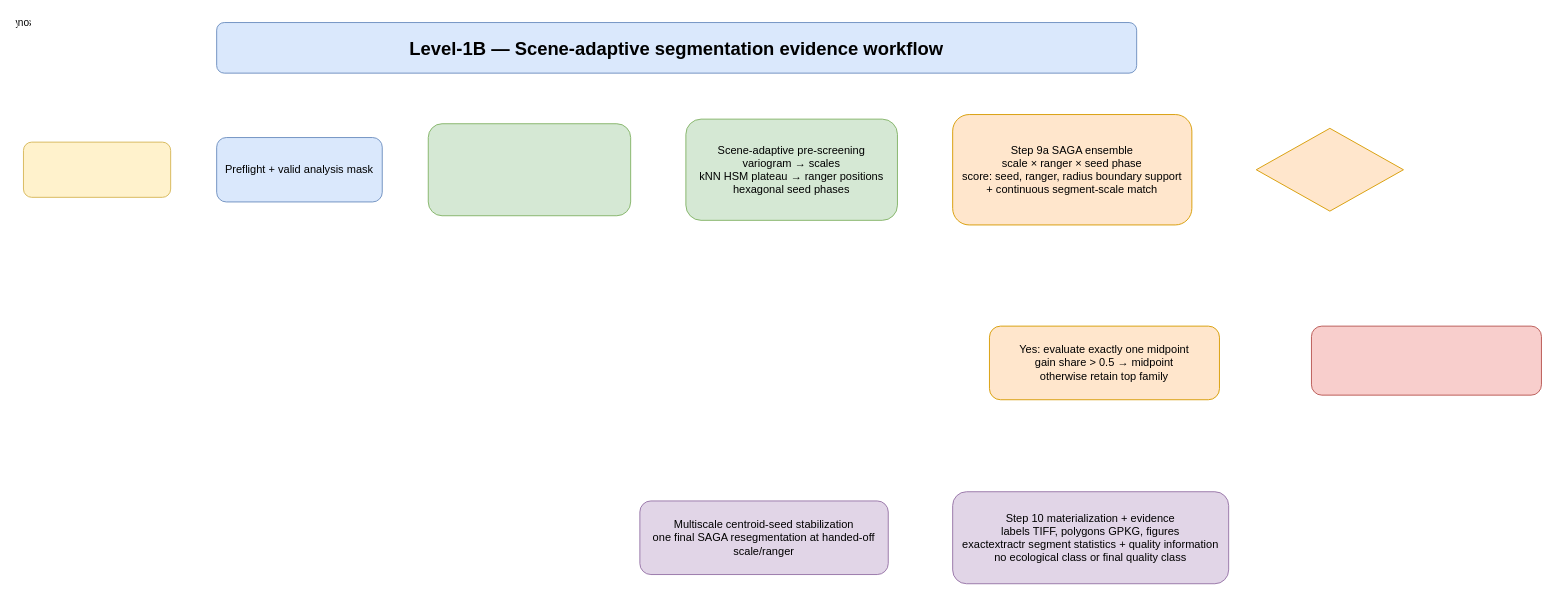
This 1558x600 diagram has some shape labels left out. Here are the shapes that lost their labels. From the top down, the centre of each, then its label:
At point 97,169: "Finished RGB orthomosaic".
At point 529,169: "Six-band proxy stack ExGR, ExR, BRI, two DGLCM-PC1, ratio robust 2–98% scaling".
At point 1329,169: "Top two scale families adjacent?".
At point 1426,360: "No: analyst choice required produce evidence/products for each supported branch".
